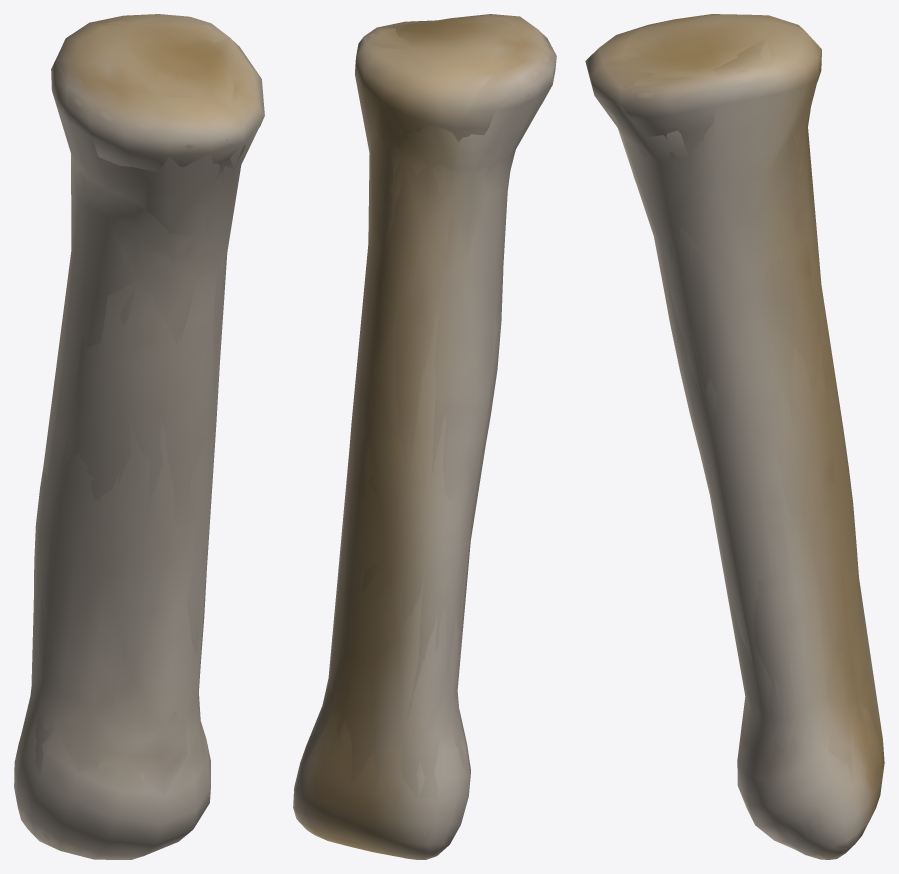
Rendered from L Radius.fbx.
The picture shows the model from 3 angles, left to right: view 1: azimuth 30°, elevation 25°; view 2: azimuth 150°, elevation 25°; view 3: azimuth 270°, elevation 25°; orthographic projection. The views are drawn at different scales.
Parts seen in each view (by area): view 1: L Radius low, L Radius, L Radius high; view 2: L Radius low, L Radius, L Radius high; view 3: L Radius low, L Radius, L Radius high.
Part boxes in pixels (x1,y1,x2,y2): L Radius low: (17, 16, 264, 859); L Radius: (14, 14, 264, 859); L Radius high: (22, 21, 259, 853); L Radius low: (293, 14, 555, 857); L Radius: (293, 14, 556, 859); L Radius high: (298, 16, 549, 857); L Radius low: (587, 15, 882, 857); L Radius: (585, 14, 884, 859); L Radius high: (590, 16, 882, 857).
Size of the model in its own units: 1.82 by 7.65 by 2.59.
